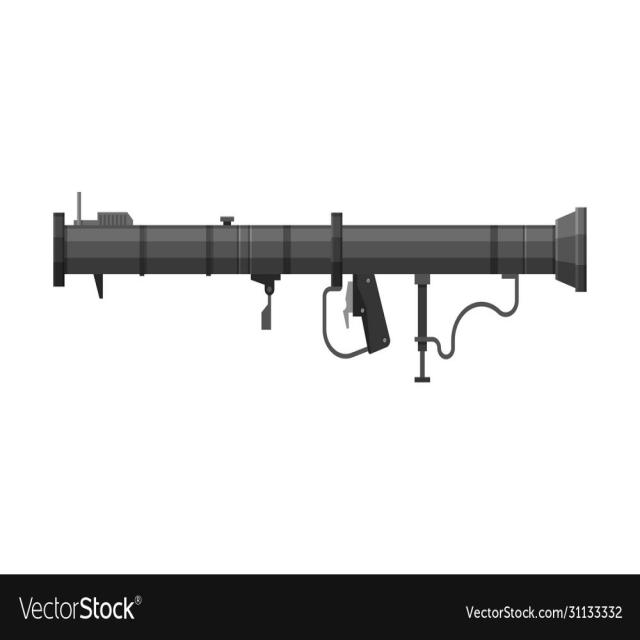Lancher: (45, 149, 606, 384)
